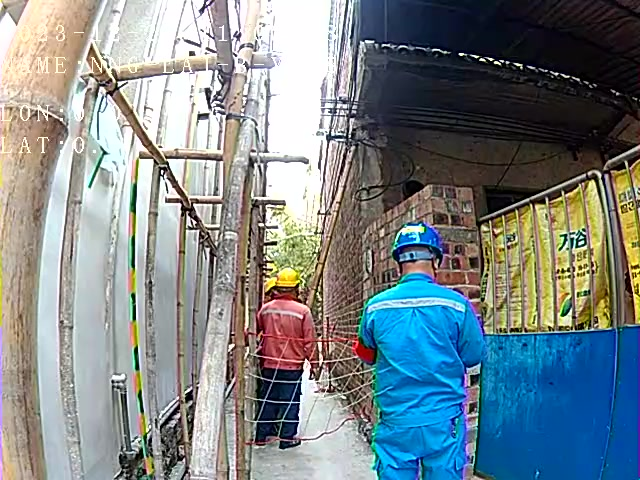badge: (353, 339, 377, 365)
downsuit: (375, 427, 471, 480), (255, 372, 304, 432)
halt: (391, 218, 446, 271), (273, 269, 303, 298)
hand: (307, 366, 319, 379)
person: (354, 221, 484, 480), (250, 268, 319, 447)
upsuit: (355, 274, 485, 418)
yupsuit: (255, 298, 315, 371)
